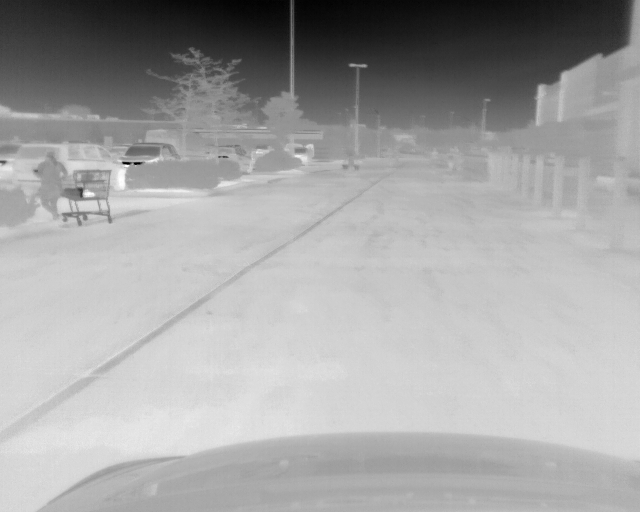car: (11, 140, 125, 195), (120, 140, 179, 169), (207, 146, 254, 172), (285, 143, 315, 166), (250, 144, 275, 159)
people: (32, 153, 69, 219)
